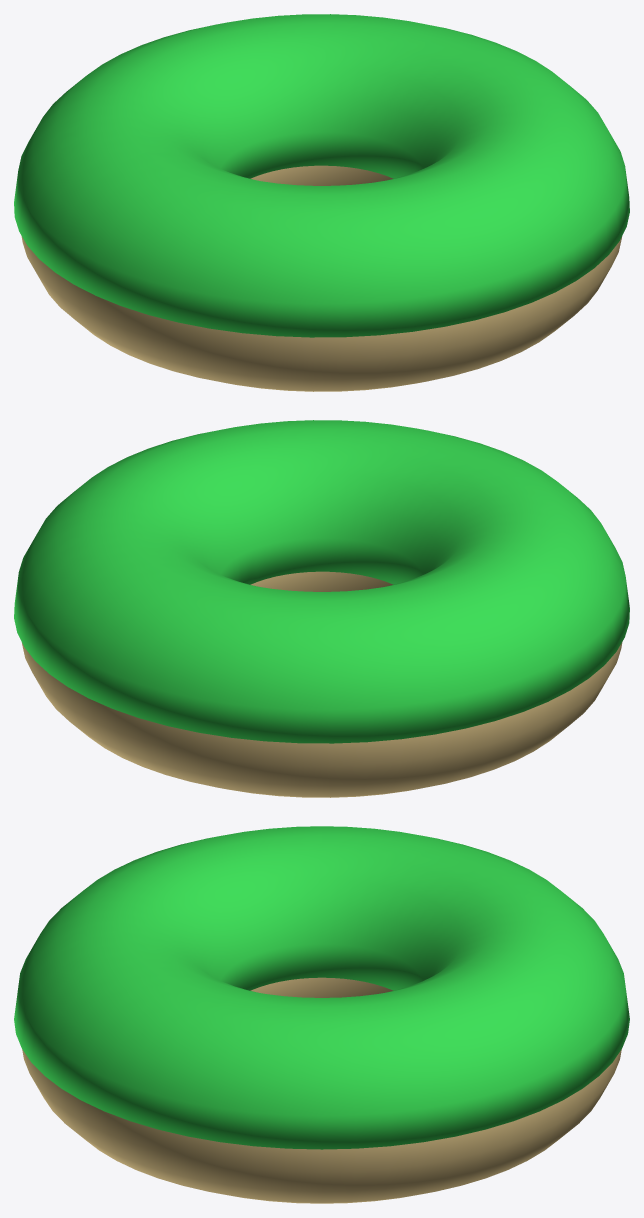
3 views of the same model, one above another, from view 1: azimuth 30°, elevation 25°; view 2: azimuth 150°, elevation 25°; view 3: azimuth 270°, elevation 25° (orthographic).
Parts seen in each view (by area): view 1: Torus.002, Torus.001; view 2: Torus.002, Torus.001; view 3: Torus.002, Torus.001.
Boxes of the visible parts, box(x1,y1,x2,y2) form: Torus.002: box(14, 14, 629, 337); Torus.001: box(21, 165, 622, 391); Torus.002: box(14, 420, 629, 743); Torus.001: box(21, 571, 622, 797); Torus.002: box(14, 826, 629, 1149); Torus.001: box(22, 977, 621, 1203).
Size of the model in its own units: 3.03 by 1.02 by 3.03.
